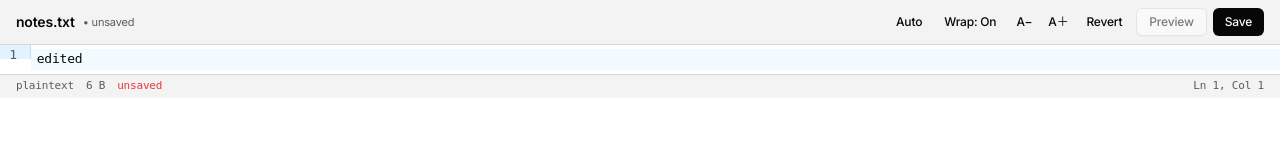
Test: FileTextEditor › reverting clears a stale save failure
The image size is (1280, 160).
Click the button "Save" at (1238, 22), box 1213,8 -> 1264,36
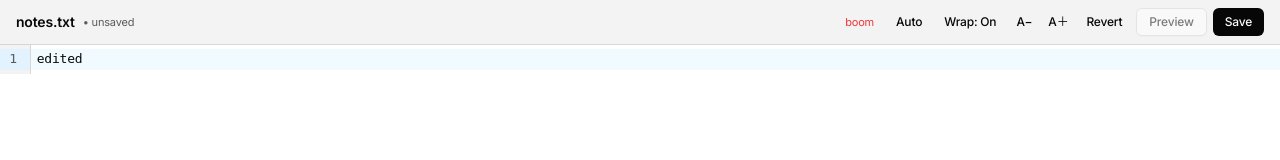
Expected: the text "boom" is shown, 845,14 -> 874,30
Click the button "Revert" at (1104, 22), box 1078,8 -> 1130,36
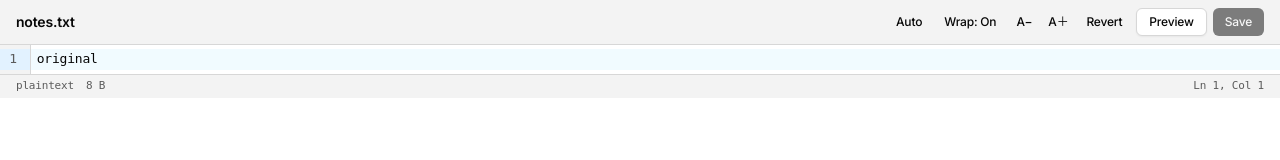
Expected: the text "boom" is gone
